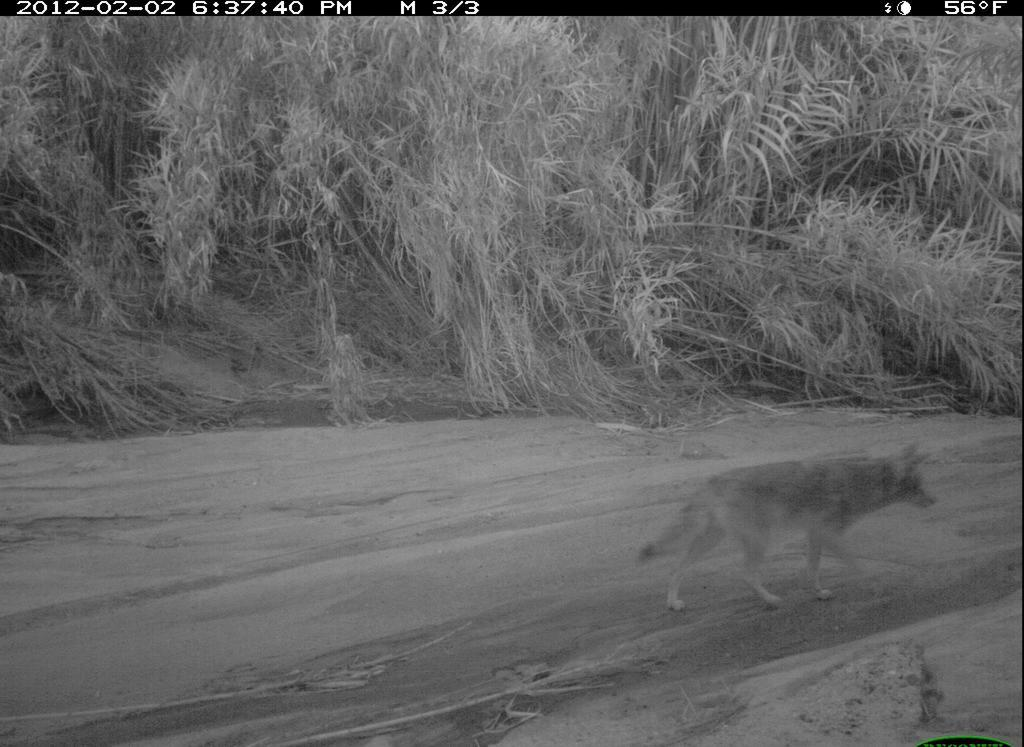coyote: (629, 441, 948, 644)
